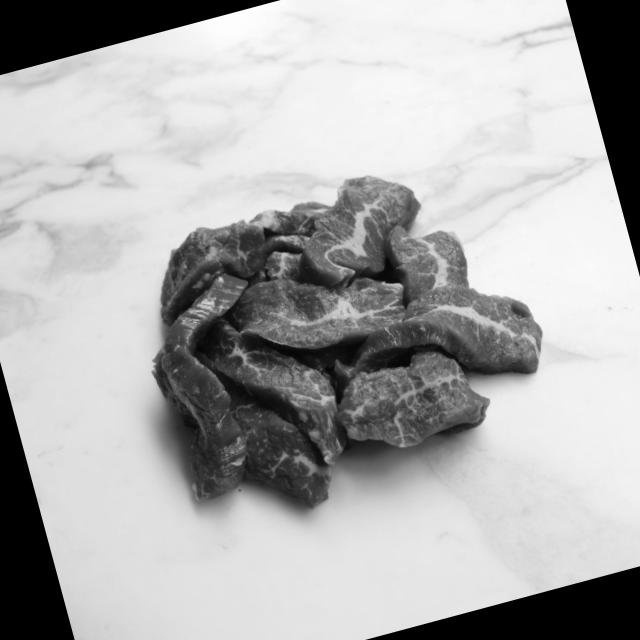thit mieng: (114, 132, 575, 540)
